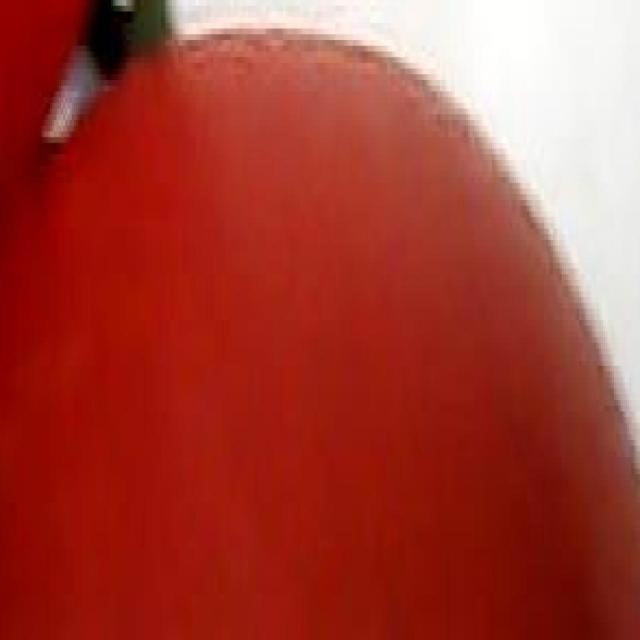Healthy Fruit: (3, 9, 427, 427)
